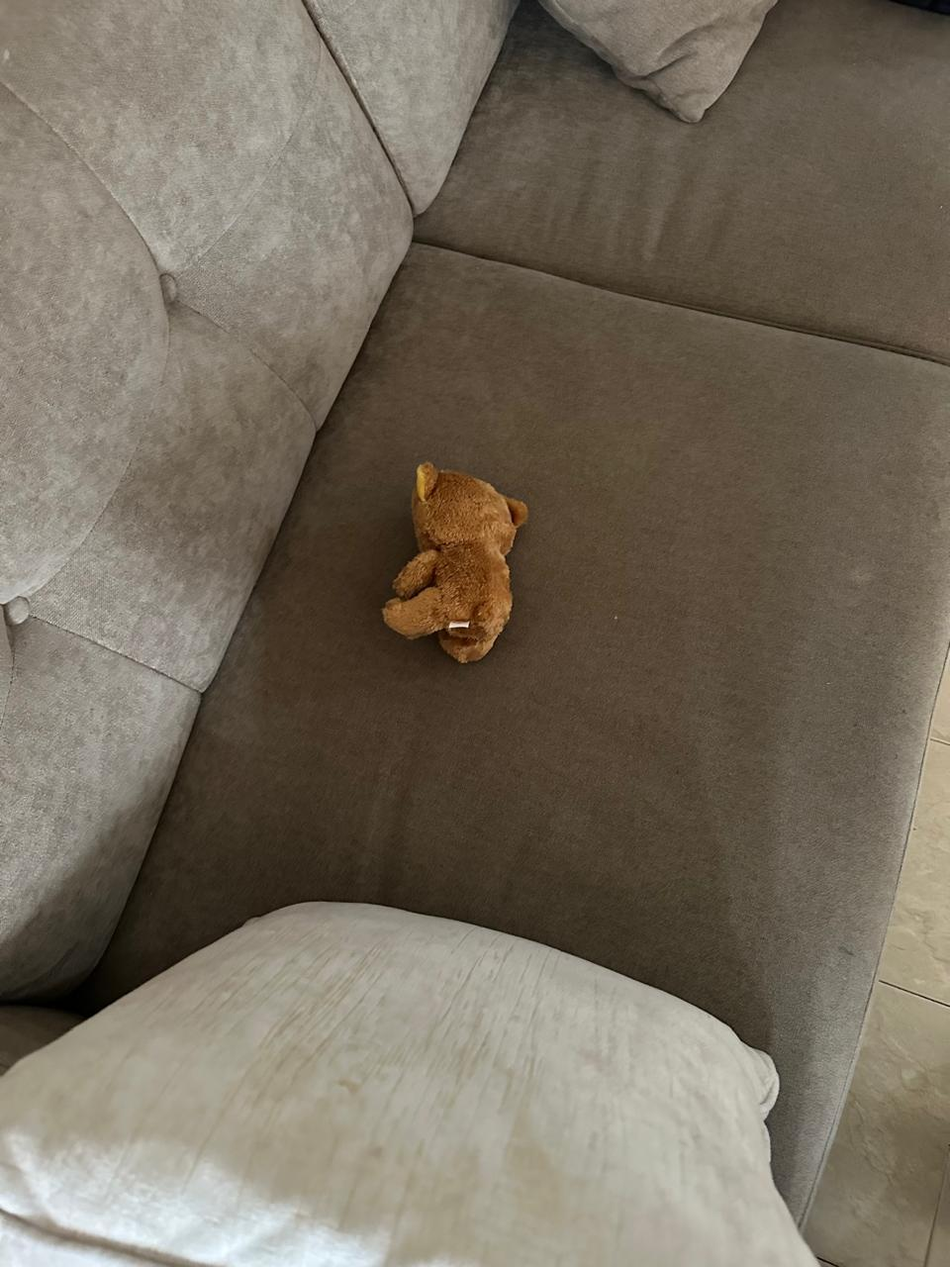peluche_sebastian: (379, 463, 532, 676)
